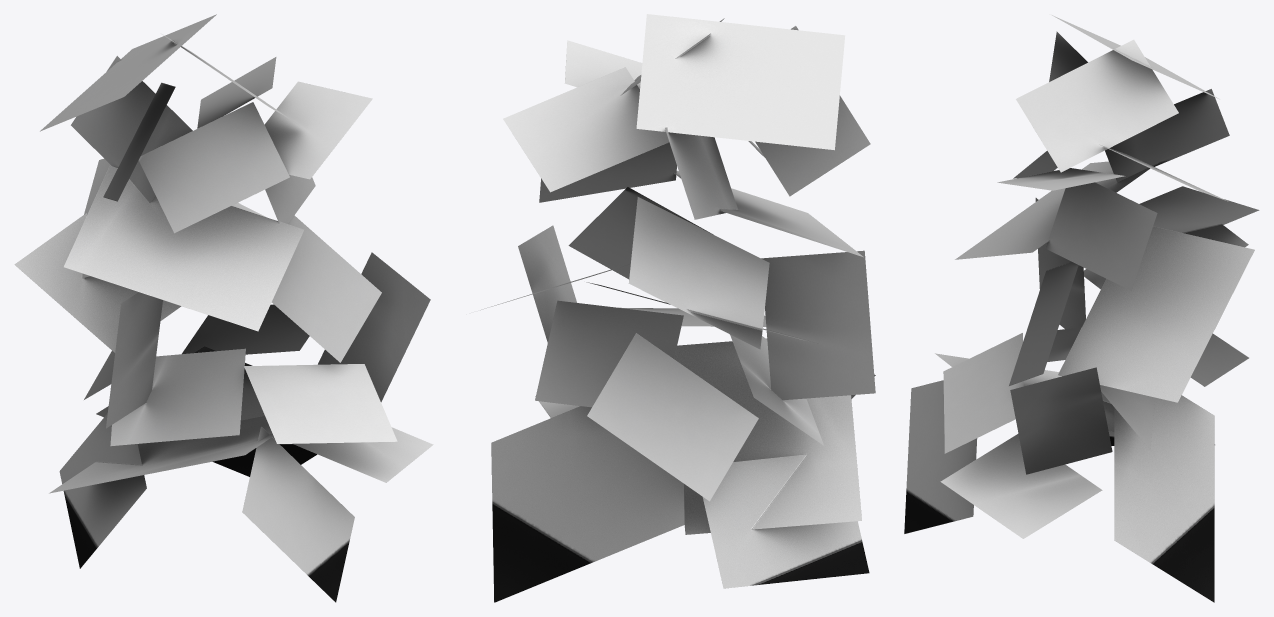
The picture shows the model from 3 angles, left to right: view 1: azimuth 30°, elevation 25°; view 2: azimuth 150°, elevation 25°; view 3: azimuth 270°, elevation 25°; orthographic projection. The views are drawn at different scales.
Parts seen in each view (by area): view 1: scene_baked_pPlane12, scene_baked_pPlane20, scene_baked_pPlane5, scene_baked_pPlane2, scene_baked_pPlane10, scene_baked_pPlane16, scene_baked_pPlane11, scene_baked_pPlane4, scene_baked_pPlane17, scene_baked_pPlane13, scene_baked_pPlane19, scene_baked_pPlane7 (+8 smaller); view 2: scene_baked_pPlane3, scene_baked_pPlane22, scene_baked_pPlane7, scene_baked_pPlane6, scene_baked_pPlane8, scene_baked_pPlane4, scene_baked_pPlane15, scene_baked_pPlane18, scene_baked_pPlane9, scene_baked_pPlane21, scene_baked_pPlane19, scene_baked_pPlane16 (+6 smaller); view 3: scene_baked_pPlane14, scene_baked_pPlane3, scene_baked_pPlane24, scene_baked_pPlane25, scene_baked_pPlane11, scene_baked_pPlane23, scene_baked_pPlane5, scene_baked_pPlane2, scene_baked_pPlane19, scene_baked_pPlane12, scene_baked_pPlane16, scene_baked_pPlane15 (+10 smaller).
Boxes of the visible parts, x1,y1,x2,y2 form: scene_baked_pPlane12: (64,165,304,331); scene_baked_pPlane20: (138,102,289,233); scene_baked_pPlane5: (242,427,354,602); scene_baked_pPlane2: (244,364,397,443); scene_baked_pPlane10: (110,348,245,446); scene_baked_pPlane16: (271,215,381,362); scene_baked_pPlane11: (318,252,430,402); scene_baked_pPlane4: (59,413,146,568); scene_baked_pPlane17: (264,81,372,179); scene_baked_pPlane13: (14,213,181,352); scene_baked_pPlane19: (71,56,192,202); scene_baked_pPlane7: (106,292,162,428); scene_baked_pPlane3: (491,406,684,602); scene_baked_pPlane22: (636,14,845,150); scene_baked_pPlane7: (761,250,875,400); scene_baked_pPlane6: (674,338,861,534); scene_baked_pPlane8: (587,333,758,501); scene_baked_pPlane4: (702,454,869,588); scene_baked_pPlane15: (628,197,769,349); scene_baked_pPlane18: (503,67,669,192); scene_baked_pPlane9: (535,300,683,407); scene_baked_pPlane21: (755,26,870,196); scene_baked_pPlane19: (665,127,737,219); scene_baked_pPlane16: (568,187,713,279); scene_baked_pPlane14: (1058,226,1254,402); scene_baked_pPlane3: (1114,395,1214,602); scene_baked_pPlane24: (1016,39,1178,172); scene_baked_pPlane25: (940,433,1102,538); scene_baked_pPlane11: (1010,367,1112,474); scene_baked_pPlane23: (1045,182,1157,290); scene_baked_pPlane5: (904,380,977,533); scene_baked_pPlane2: (943,333,1023,453); scene_baked_pPlane19: (1105,89,1229,181); scene_baked_pPlane12: (955,161,1158,259); scene_baked_pPlane16: (1009,261,1078,385); scene_baked_pPlane15: (1139,186,1259,232).
Size of what is drawn, in the model's own units: 2.85 by 4.2 by 2.71.
Materials: 24 (24 with a texture image).
